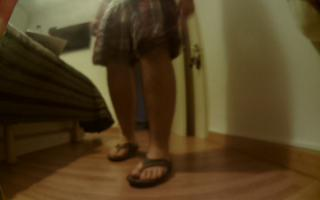person: (90, 1, 192, 186)
